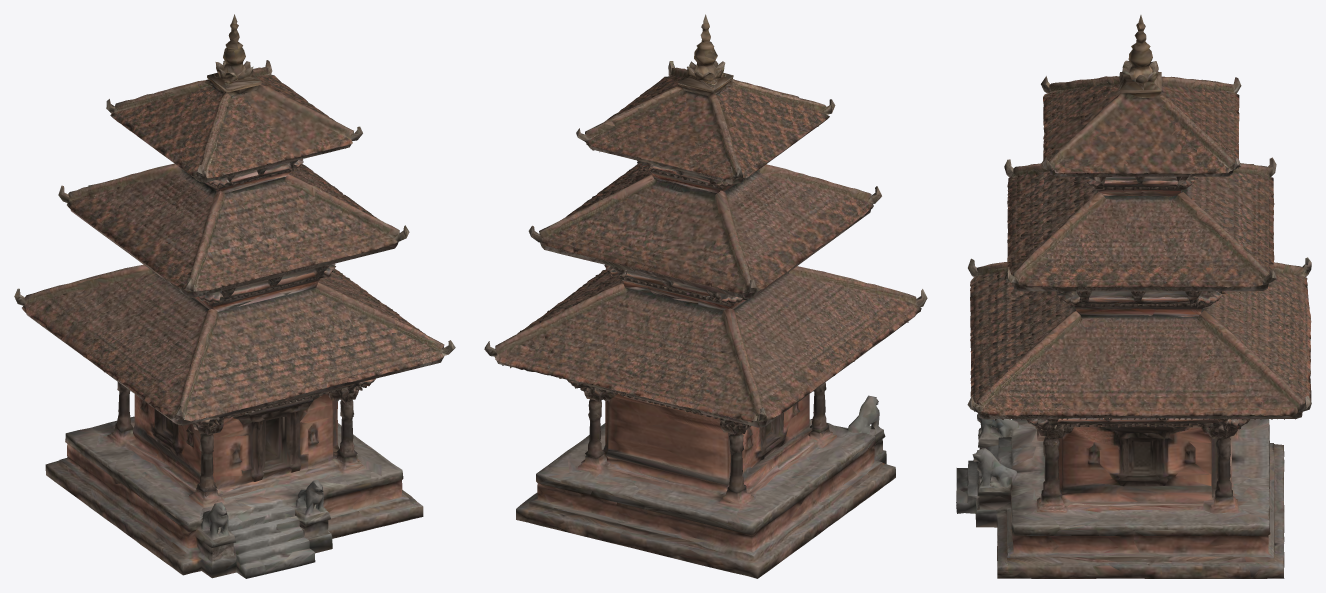
Rendered from pagoda.glb.
3 views of the same model, side by side, from view 1: azimuth 30°, elevation 25°; view 2: azimuth 150°, elevation 25°; view 3: azimuth 270°, elevation 25° (orthographic). The views are drawn at different scales.
Visible parts, largest first — view 1: pagoda; view 2: pagoda; view 3: pagoda.
Boxes of the visible parts, x1,y1,x2,y2 form: pagoda: (14, 14, 455, 578); pagoda: (484, 14, 927, 578); pagoda: (956, 15, 1311, 578).
Bounding box in the file's own units: 7.93 × 13 × 8.32.
1 material, 1 textured.
